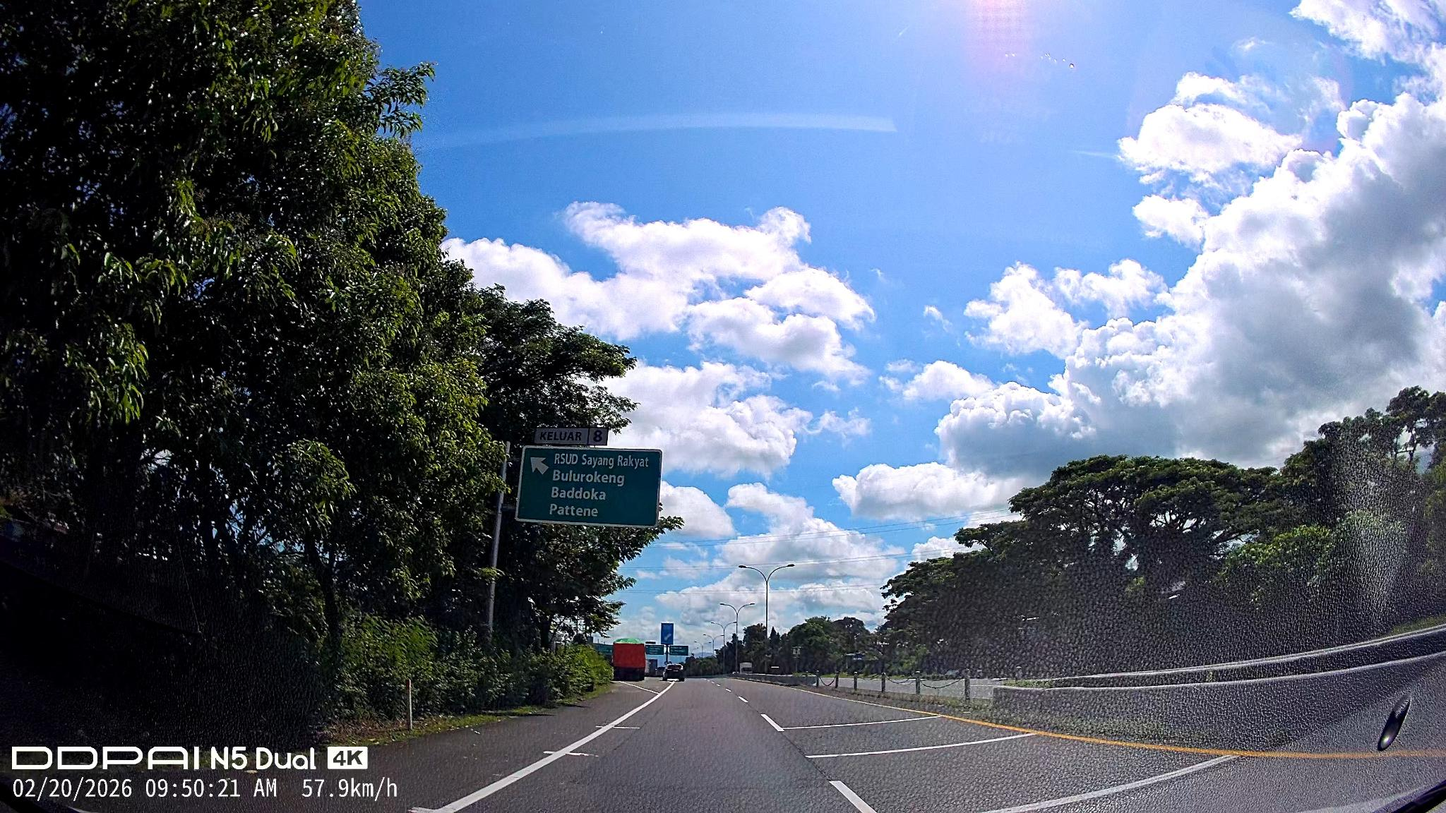rambu_teks: (514, 444, 663, 528)
